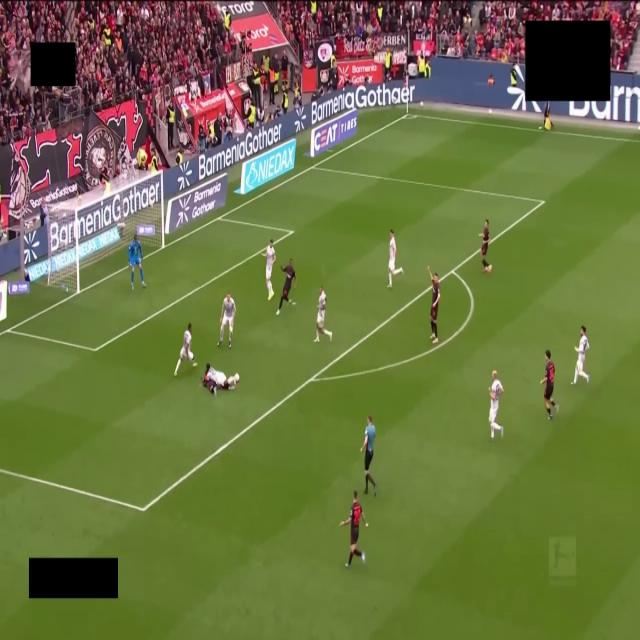ball: (235, 373, 239, 381)
player: (340, 491, 368, 567), (541, 350, 558, 419), (202, 363, 239, 394), (174, 324, 196, 375), (277, 259, 296, 314), (314, 288, 332, 342), (489, 371, 503, 440), (573, 326, 589, 385), (428, 265, 440, 343), (128, 234, 145, 289), (218, 294, 235, 348), (388, 230, 403, 287), (262, 240, 275, 300), (480, 220, 491, 272), (202, 363, 217, 395)
referee: (361, 416, 376, 495)
